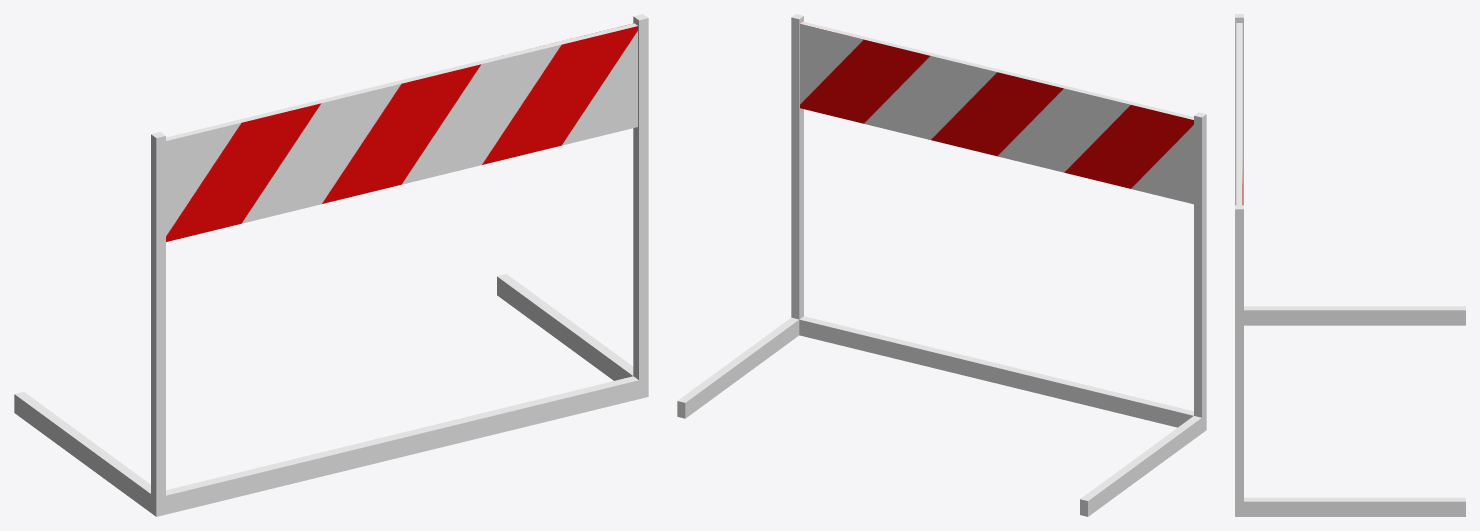
The model's file is hurdle.gltf.
The picture shows the model from 3 angles, left to right: view 1: azimuth 30°, elevation 25°; view 2: azimuth 150°, elevation 25°; view 3: azimuth 270°, elevation 25°; orthographic projection. The views are drawn at different scales.
Parts seen in each view (by area): view 1: Cube.002, Cube.001; view 2: Cube.002, Cube.001; view 3: Cube.001, Cube.002.
Boxes of the visible parts, x1,y1,x2,y2 form: Cube.002: [166, 23, 637, 241]; Cube.001: [14, 14, 648, 516]; Cube.002: [800, 21, 1193, 204]; Cube.001: [677, 14, 1206, 516]; Cube.001: [1235, 14, 1465, 516]; Cube.002: [1236, 23, 1242, 205].
Bounding box in the file's own units: 2.3 × 1.69 × 1.15.
Materials: 2 (1 with a texture image).
